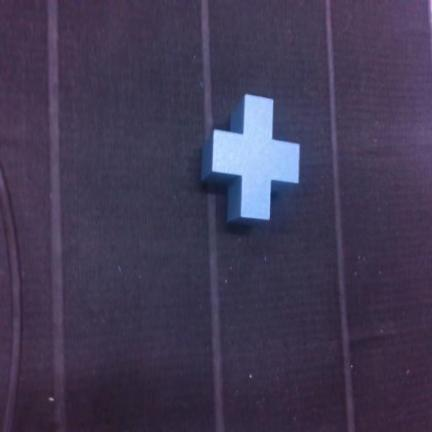cross: (202, 95, 299, 222)
